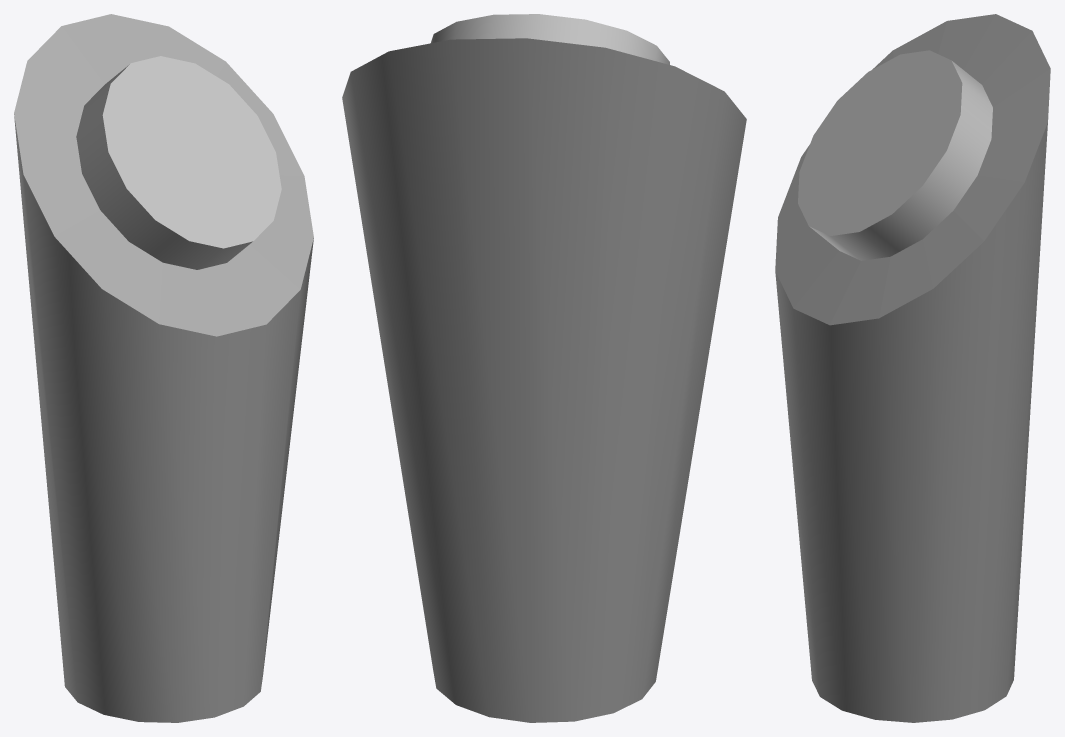
Rendered from -Eject Console-.fbx.
The picture shows the model from 3 angles, left to right: view 1: azimuth 30°, elevation 25°; view 2: azimuth 150°, elevation 25°; view 3: azimuth 270°, elevation 25°; orthographic projection. The views are drawn at different scales.
Parts seen in each view (by area): view 1: Eject_Console.Main; view 2: Eject_Console.Main; view 3: Eject_Console.Main.
Boxes of the visible parts, <box> form: Eject_Console.Main: <box>14,14,313,722</box>; Eject_Console.Main: <box>342,14,746,722</box>; Eject_Console.Main: <box>775,14,1050,722</box>.
Bounding box in the file's own units: 0.578 × 1.14 × 0.4537.
